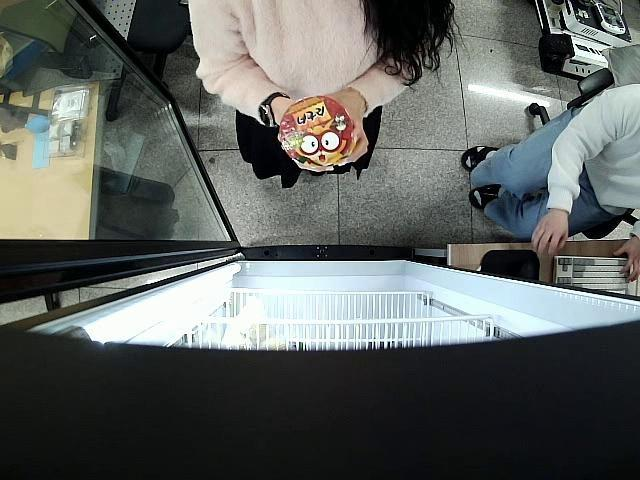06_nuguri_S: (278, 97, 354, 164)
